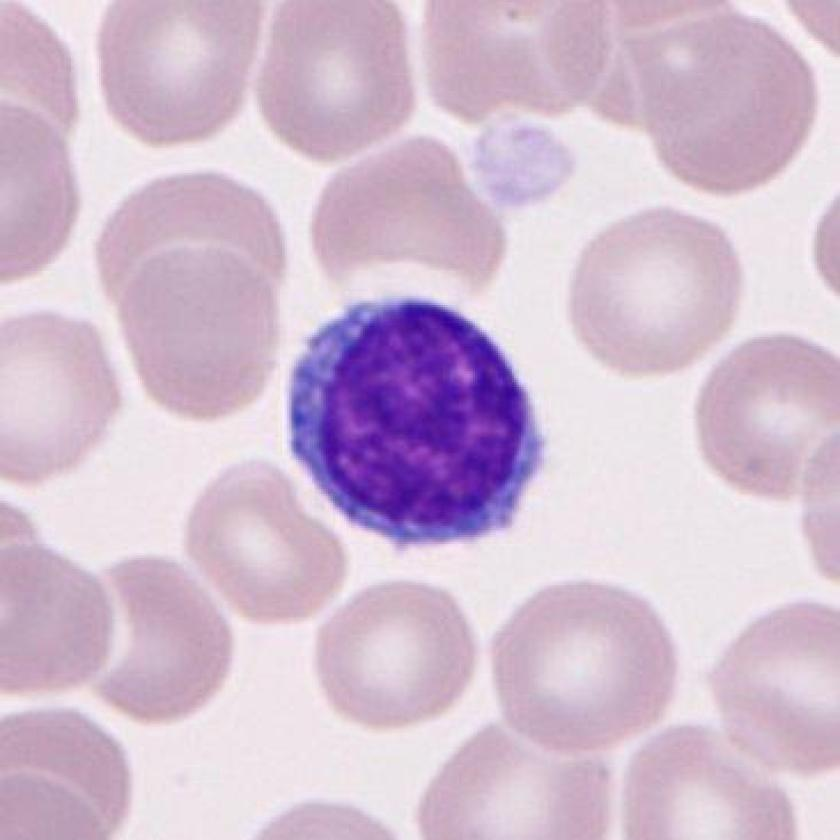lymphocyte: (272, 286, 561, 566)
